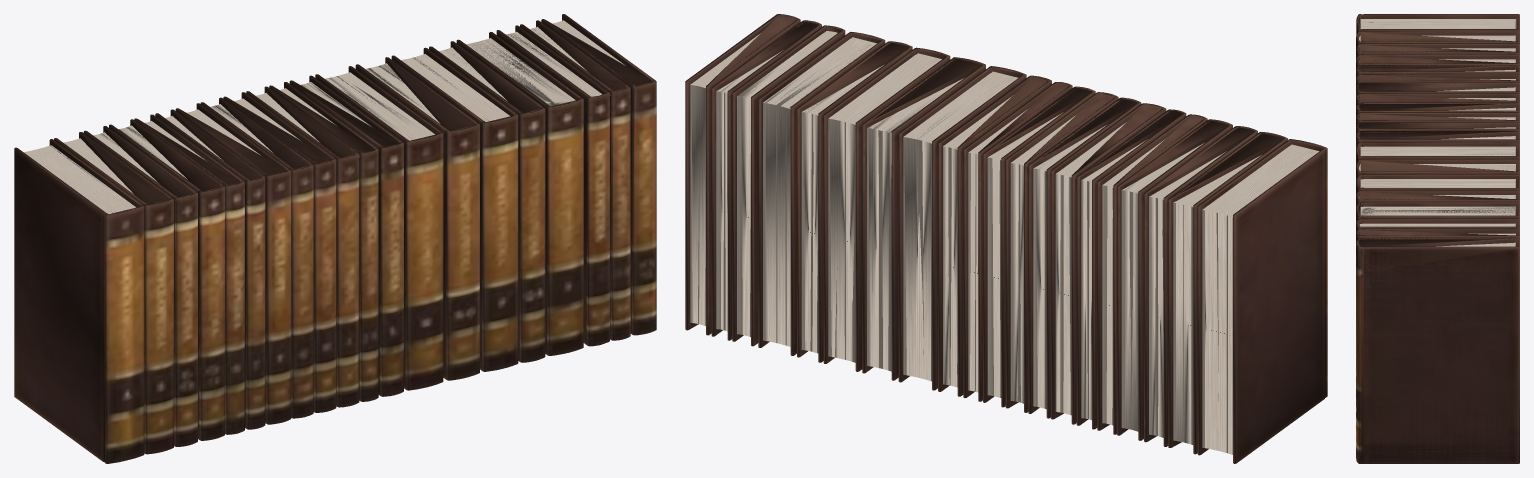
Rendered from book_encyclopedia_set_01.glb.
3 views of the same model, side by side, from view 1: azimuth 30°, elevation 25°; view 2: azimuth 150°, elevation 25°; view 3: azimuth 270°, elevation 25° (orthographic). The views are drawn at different scales.
Parts seen in each view (by area): view 1: book_encyclopedia_set_01_book01, book_encyclopedia_set_01_book01_lo; view 2: book_encyclopedia_set_01_book01, book_encyclopedia_set_01_book01_lo; view 3: book_encyclopedia_set_01_book01, book_encyclopedia_set_01_book01_lo.
Boxes of the visible parts, x1,y1,x2,y2 form: book_encyclopedia_set_01_book01: (14, 14, 656, 463); book_encyclopedia_set_01_book01_lo: (15, 14, 655, 462); book_encyclopedia_set_01_book01: (685, 14, 1327, 463); book_encyclopedia_set_01_book01_lo: (685, 15, 1325, 454); book_encyclopedia_set_01_book01: (1356, 14, 1519, 463); book_encyclopedia_set_01_book01_lo: (1356, 14, 1518, 463).
Size of the model in its own units: 0.5513 by 0.2374 by 0.1631.
Materials: 2 (2 with a texture image).
